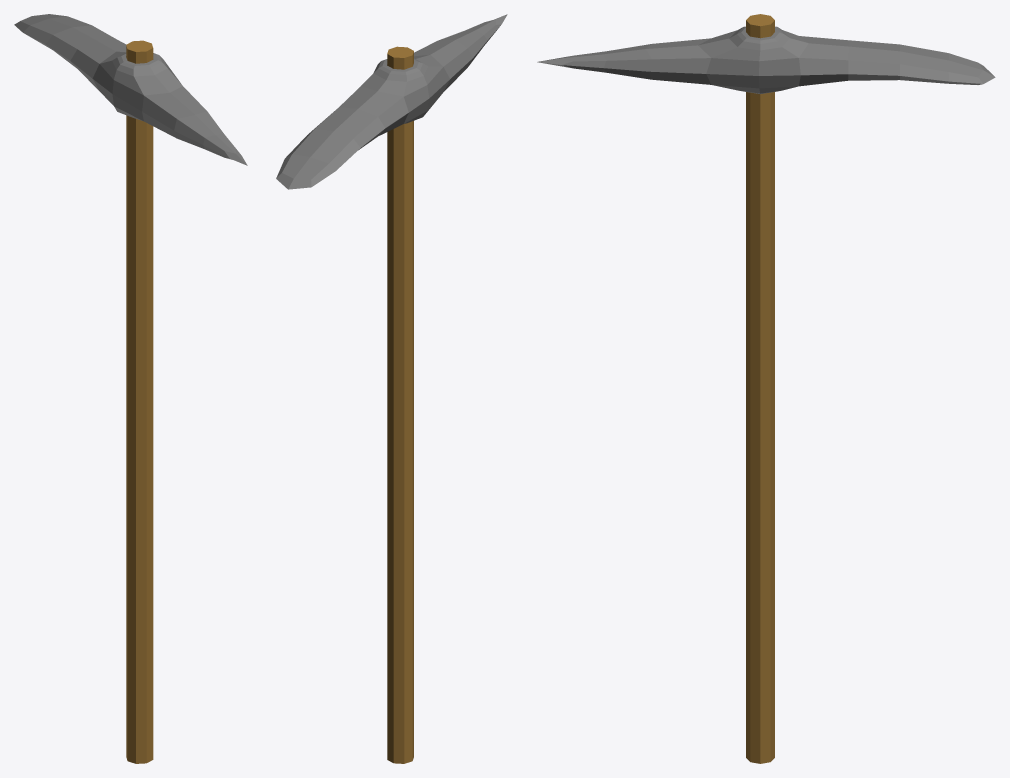
File: pioche.fbx
3 views of the same model, side by side, from view 1: azimuth 30°, elevation 25°; view 2: azimuth 150°, elevation 25°; view 3: azimuth 270°, elevation 25° (orthographic). The views are drawn at different scales.
Parts seen in each view (by area): view 1: Pioche; view 2: Pioche; view 3: Pioche.
Part boxes in pixels (x1,y1,x2,y2): Pioche: (14, 14, 247, 763); Pioche: (276, 14, 507, 763); Pioche: (537, 14, 995, 763).
Size of the model in its own units: 5.12 by 61.98 by 34.99.
